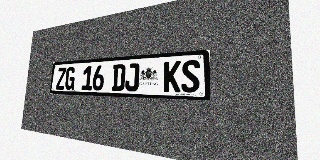1: (81, 66, 94, 90)
6: (92, 65, 105, 91)
D: (112, 64, 126, 91)
G: (65, 67, 76, 90)
J: (125, 63, 140, 91)
K: (163, 61, 181, 92)
S: (181, 60, 200, 93)
Z: (56, 67, 66, 90)
